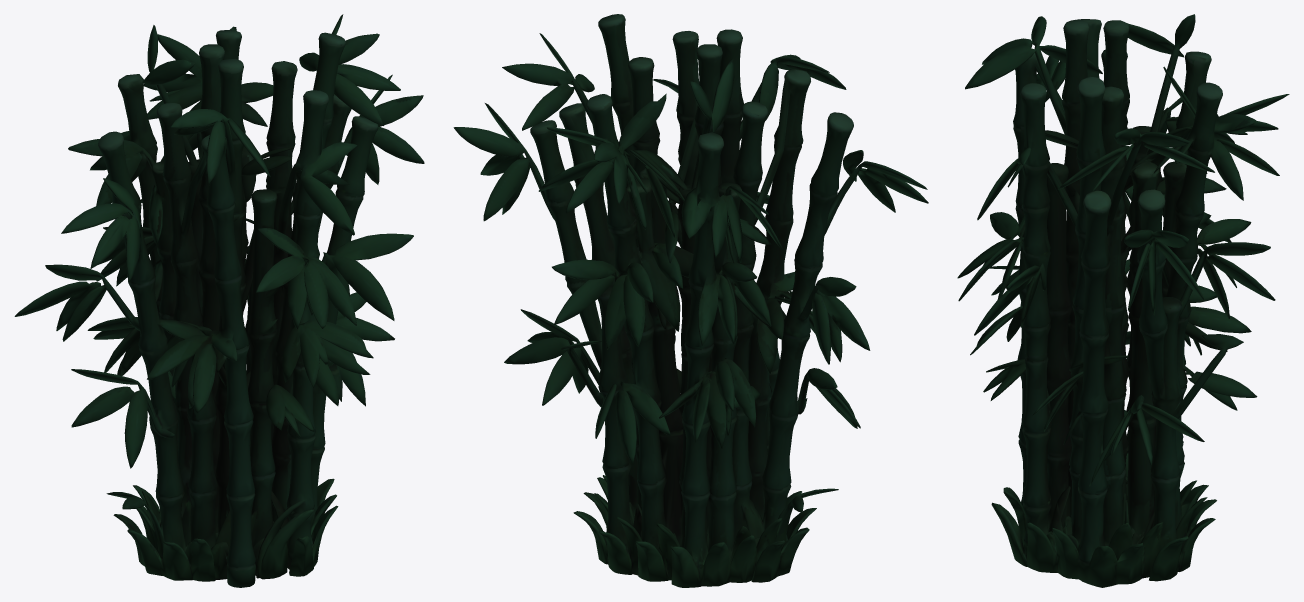
The model's file is jade_bamboo.glb.
The picture shows the model from 3 angles, left to right: view 1: azimuth 30°, elevation 25°; view 2: azimuth 150°, elevation 25°; view 3: azimuth 270°, elevation 25°; orthographic projection. The views are drawn at different scales.
Visible parts, largest first — view 1: node_0; view 2: node_0; view 3: node_0.
Part boxes in pixels (bbox=[...]): node_0: bbox=[14, 14, 424, 587]; node_0: bbox=[453, 14, 928, 587]; node_0: bbox=[957, 14, 1289, 587].
Bounding box in the file's own units: 3.34 × 4 × 2.34.
1 material, 1 textured.
